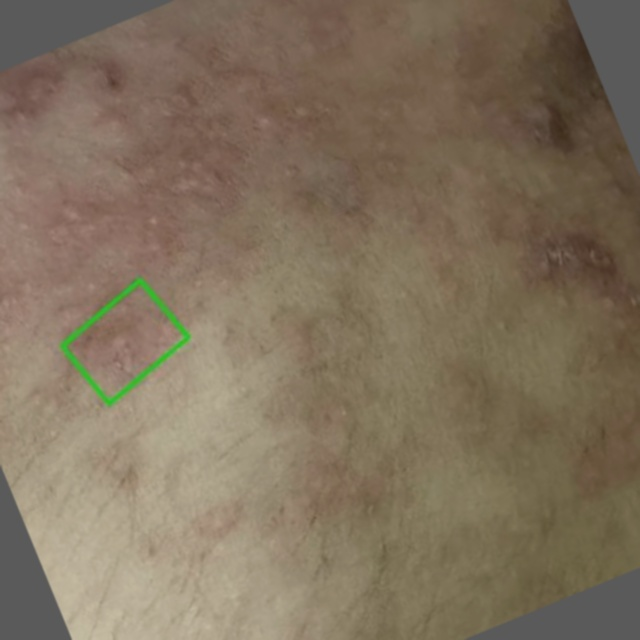Scabies: (61, 280, 188, 404)
